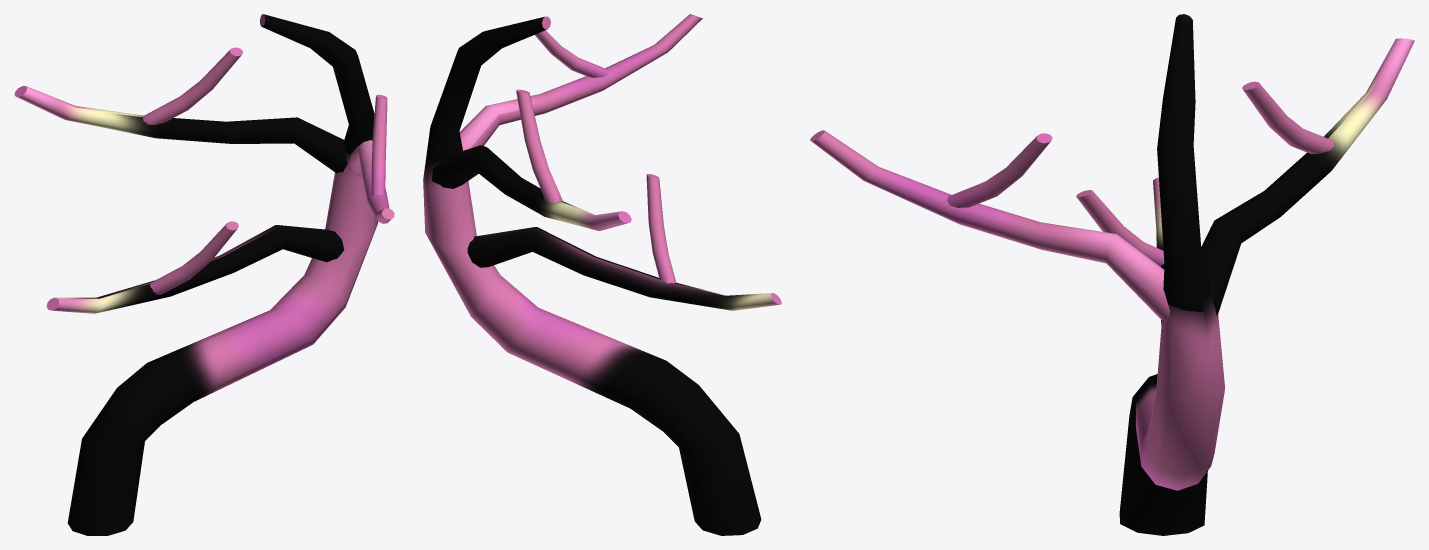
Rendered from DeadTree_10.obj.
3 renders of one model, left to right at view 1: azimuth 30°, elevation 25°; view 2: azimuth 150°, elevation 25°; view 3: azimuth 270°, elevation 25°, orthographic. The views are drawn at different scales.
Parts seen in each view (by area): view 1: DeadTree_10_Cylinder.046; view 2: DeadTree_10_Cylinder.046; view 3: DeadTree_10_Cylinder.046.
Boxes of the visible parts, box(x1,y1,x2,y2) form: DeadTree_10_Cylinder.046: box(14, 14, 394, 535); DeadTree_10_Cylinder.046: box(423, 14, 781, 535); DeadTree_10_Cylinder.046: box(810, 14, 1414, 535).
Size of the model in its own units: 3.34 by 4.35 by 3.85.
Materials: 1 (1 with a texture image).
